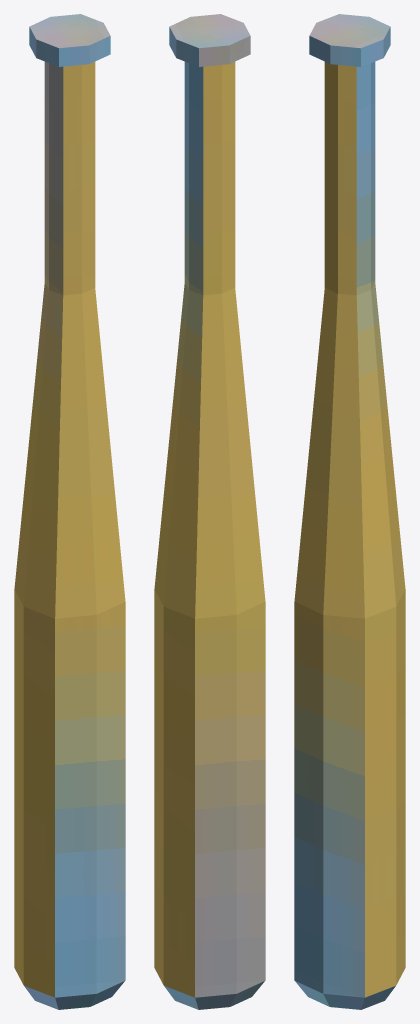
Rendered from cece82a0-faf1-438a-bf66-05eebc6d441e.glb.
3 renders of one model, left to right at view 1: azimuth 30°, elevation 25°; view 2: azimuth 210°, elevation 25°; view 3: azimuth 330°, elevation 25°, orthographic.
Visible parts, largest first — view 1: Baseball_bat_Cube.001; view 2: Baseball_bat_Cube.001; view 3: Baseball_bat_Cube.001.
Boxes of the visible parts, <box> form: Baseball_bat_Cube.001: <box>14,14,125,1009</box>; Baseball_bat_Cube.001: <box>154,14,265,1009</box>; Baseball_bat_Cube.001: <box>294,14,405,1009</box>.
Bounding box in the file's own units: 0.2528 × 2.51 × 0.2528.
Materials: 1 (1 with a texture image).
